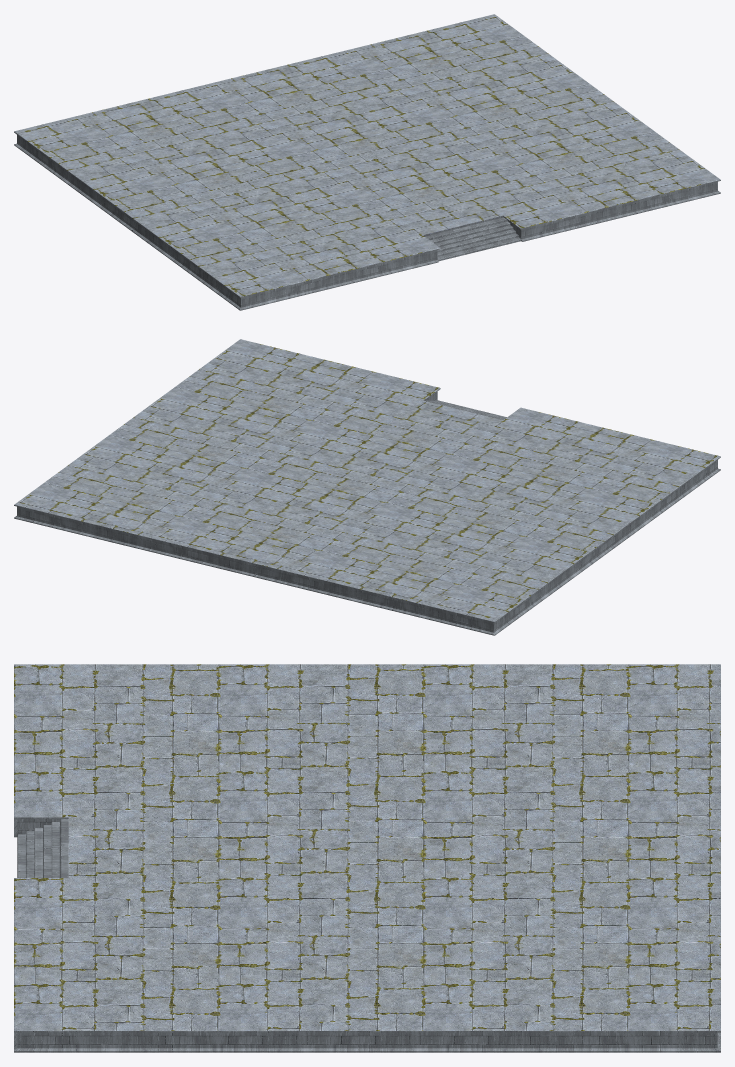
File: SM_Temple_FloorBase.fbx
The picture shows the model from 3 angles, top to bottom: view 1: azimuth 30°, elevation 25°; view 2: azimuth 150°, elevation 25°; view 3: azimuth 270°, elevation 25°; orthographic projection. The views are drawn at different scales.
Parts seen in each view (by area): view 1: SM_Temple; view 2: SM_Temple; view 3: SM_Temple.
Part boxes in pixels (left/top/right/bottom): SM_Temple: left=14, top=14, right=720, bottom=310; SM_Temple: left=14, top=339, right=720, bottom=635; SM_Temple: left=14, top=664, right=720, bottom=1052.
Size of the model in its own units: 6000 by 166 by 4892.
